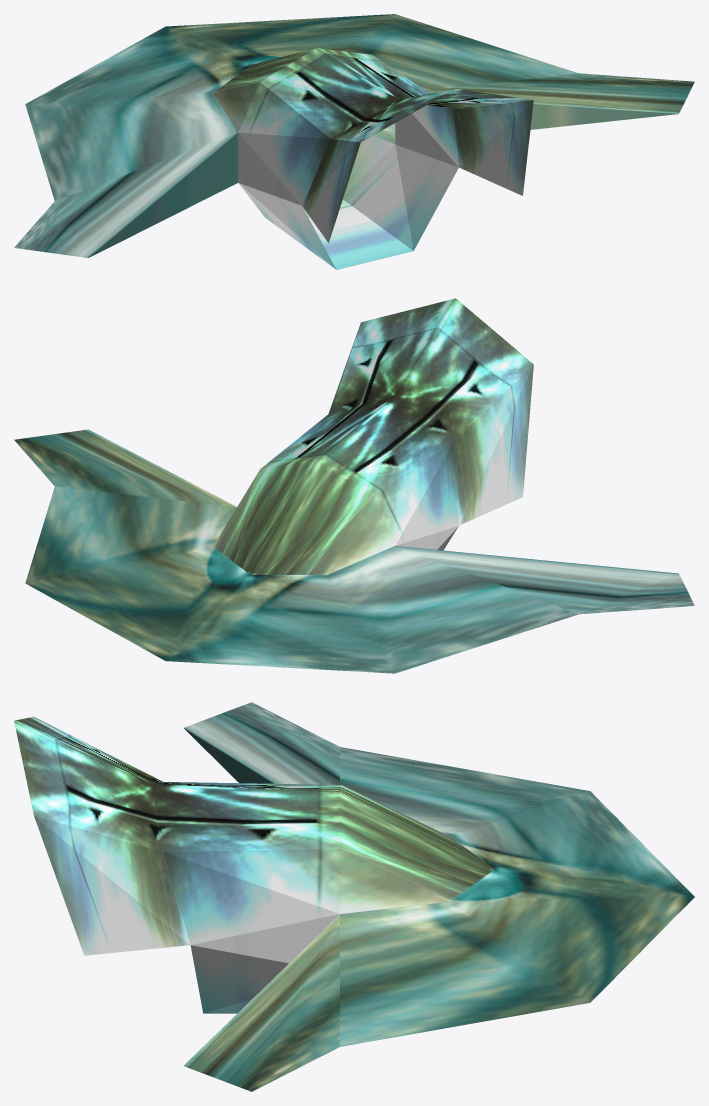
Rendered from twinblade102_4.obj.
3 renders of one model, top to bottom at view 1: azimuth 30°, elevation 25°; view 2: azimuth 150°, elevation 25°; view 3: azimuth 270°, elevation 25°, orthographic. The views are drawn at different scales.
Parts seen in each view (by area): view 1: MDL_cwdhkn02_4r; view 2: MDL_cwdhkn02_4r; view 3: MDL_cwdhkn02_4r.
Part boxes in pixels (left/top/right/bottom): MDL_cwdhkn02_4r: left=14, top=14, right=694, bottom=269; MDL_cwdhkn02_4r: left=14, top=298, right=694, bottom=673; MDL_cwdhkn02_4r: left=14, top=702, right=694, bottom=1091.
Bounding box in the file's own units: 0.64 × 0.2074 × 0.4725.
